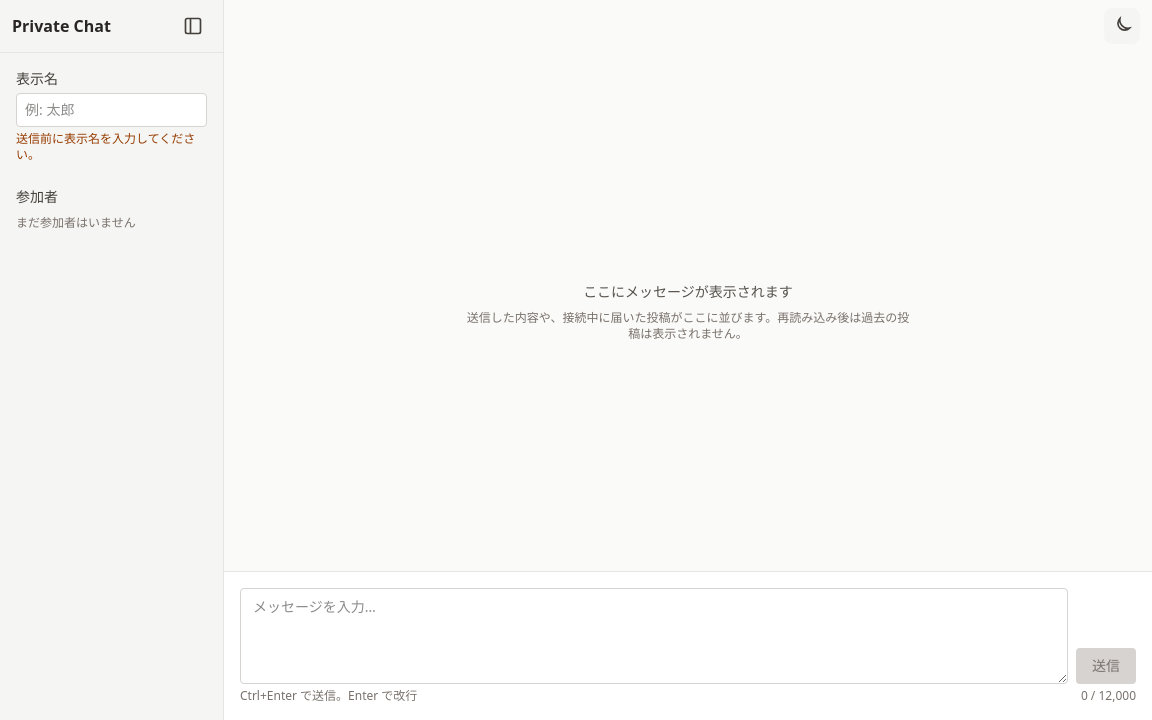
Test: ChatApp responsive sidebar › expands sidebar when toggle is clicked again
Click the button named "サイドバーを閉じる". click: (193, 26)
box: [175,8,211,44]
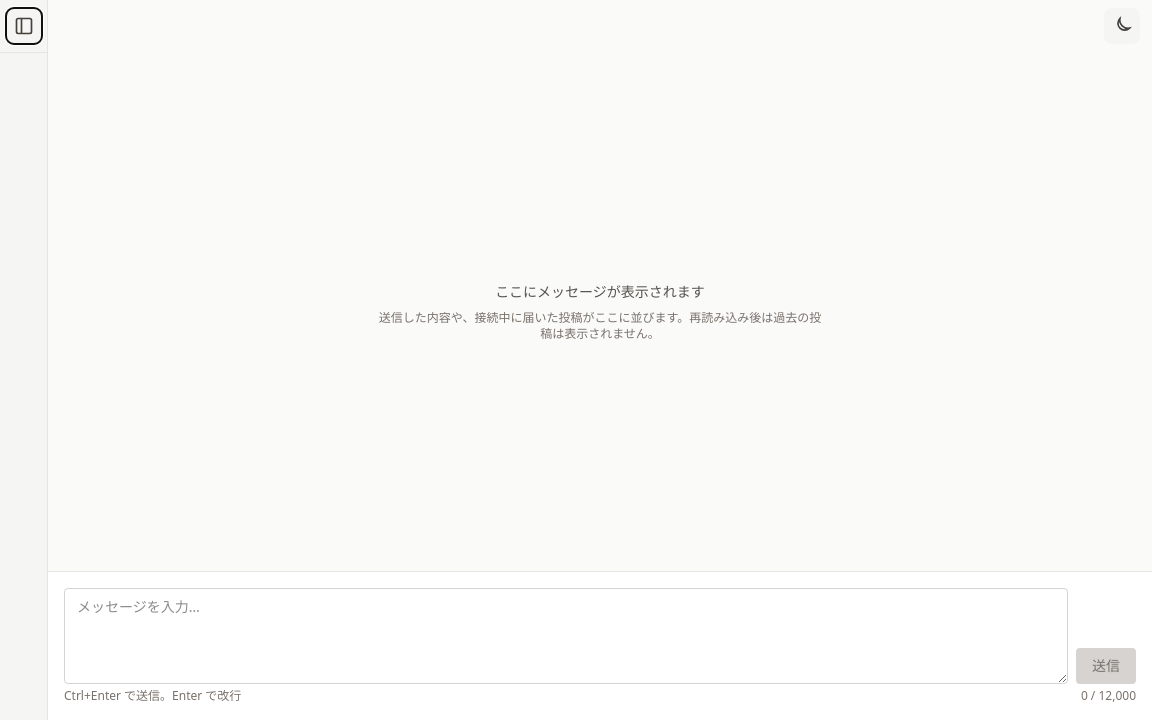
Click the button named "サイドバーを開く". click: (24, 26)
box: [6,8,42,44]
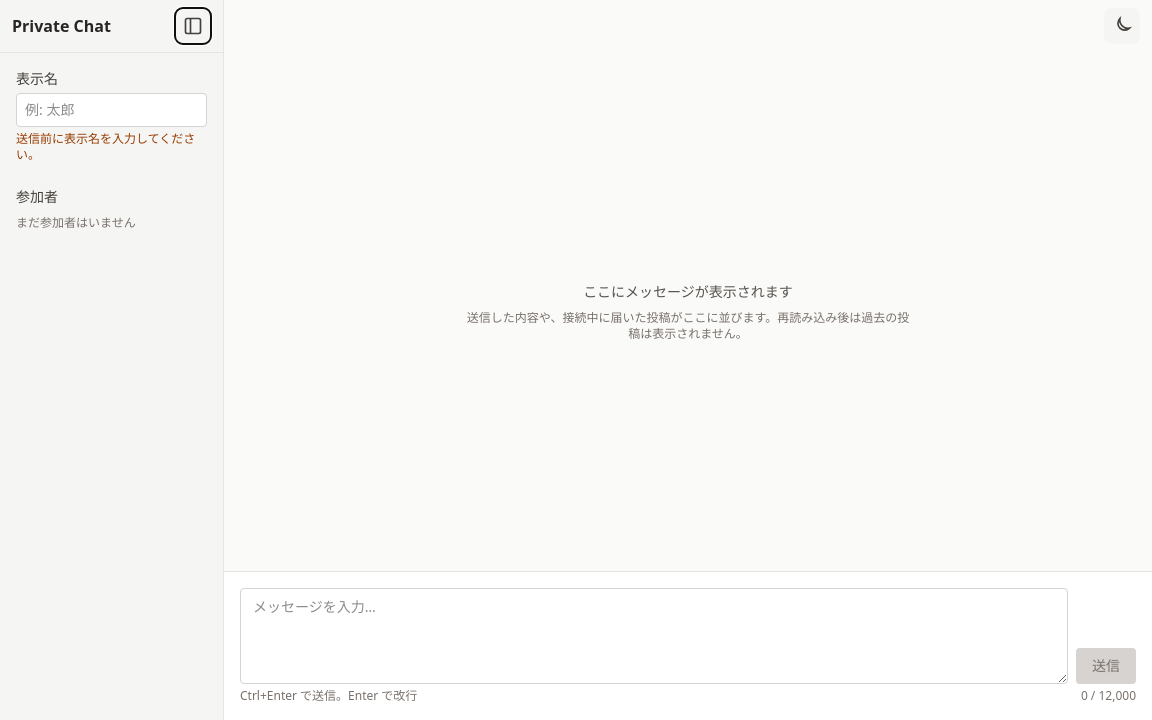
Check: the field labelled "表示名" is shown, box [16,93,207,127]
